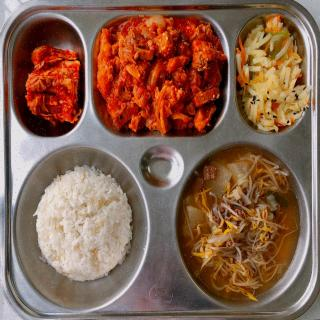Nasi: (37, 166, 134, 281)
